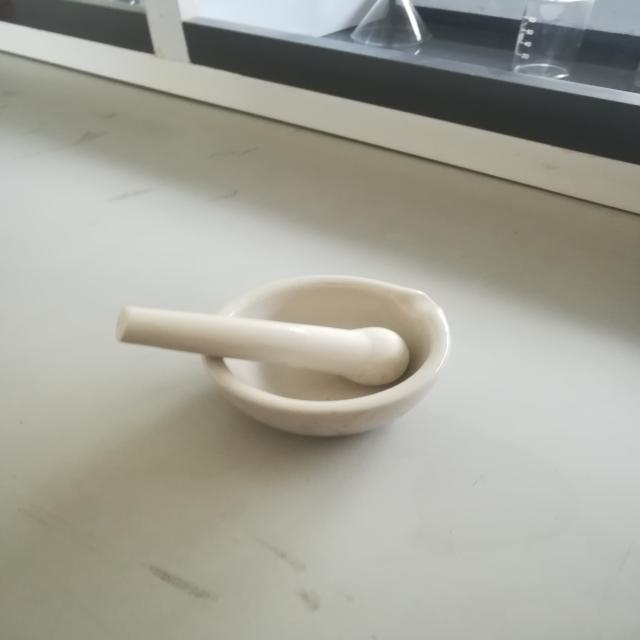Porcelain_Mortar Pestle: (82, 247, 499, 496)
